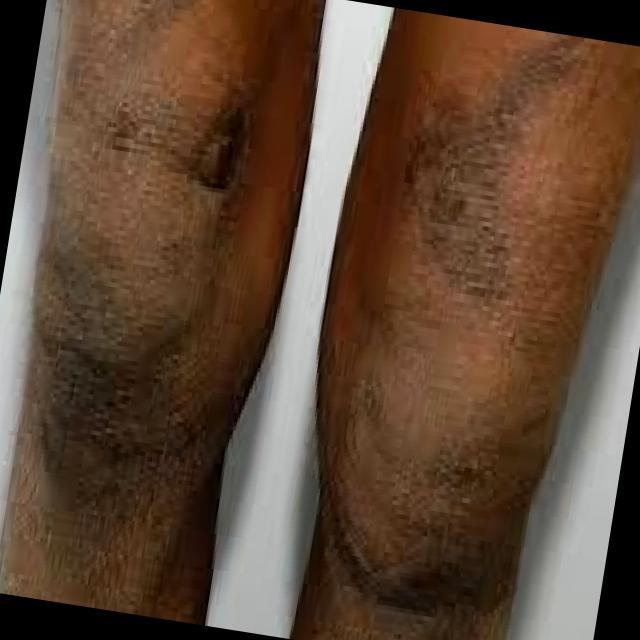Eczema: (354, 40, 597, 602), (50, 79, 225, 495)
